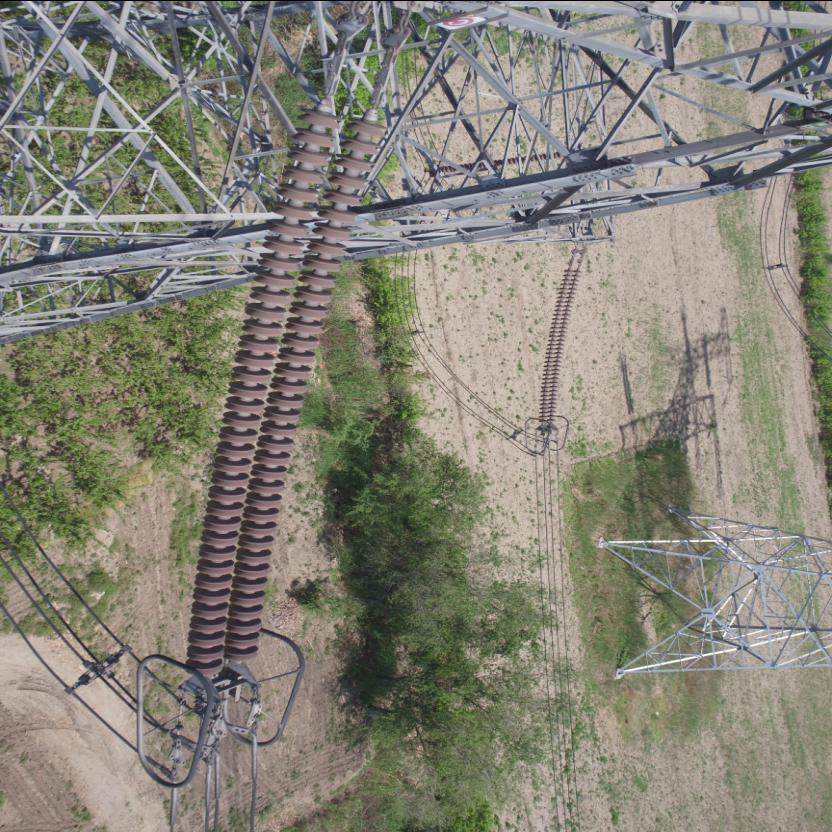insulator: (180, 71, 396, 685), (539, 258, 585, 426)
